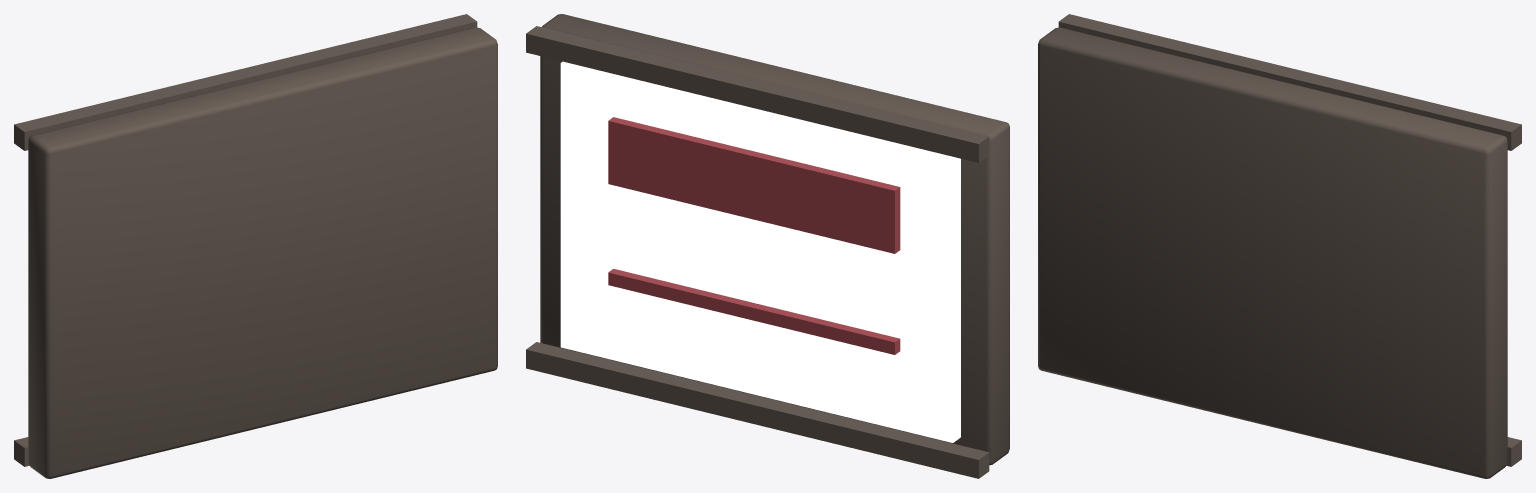
File: lightbox.glb
The picture shows the model from 3 angles, left to right: view 1: azimuth 30°, elevation 25°; view 2: azimuth 150°, elevation 25°; view 3: azimuth 330°, elevation 25°; orthographic projection.
Visible parts, largest first — view 1: LBBase, LBFrameN; view 2: LBGlow, LBBase, StampBar, LBFrameN, LBFrameS, StampBar2; view 3: LBBase, LBFrameN.
Part boxes in pixels (<box>): LBBase: <box>28,27,497,478</box>; LBFrameN: <box>14,14,477,150</box>; LBGlow: <box>560,61,960,442</box>; LBBase: <box>540,14,1009,465</box>; StampBar: <box>608,117,900,253</box>; LBFrameN: <box>526,26,989,162</box>; LBFrameS: <box>526,342,989,478</box>; StampBar2: <box>608,268,900,354</box>; LBBase: <box>1038,27,1507,478</box>; LBFrameN: <box>1058,14,1521,150</box>.
Size of the model in its own units: 1.5 by 1.06 by 0.195.
